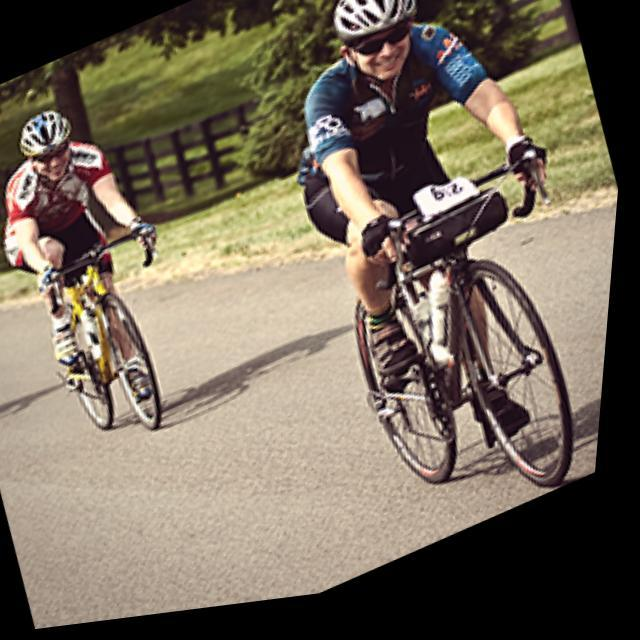Helmet: (323, 0, 430, 83), (10, 103, 83, 184)
